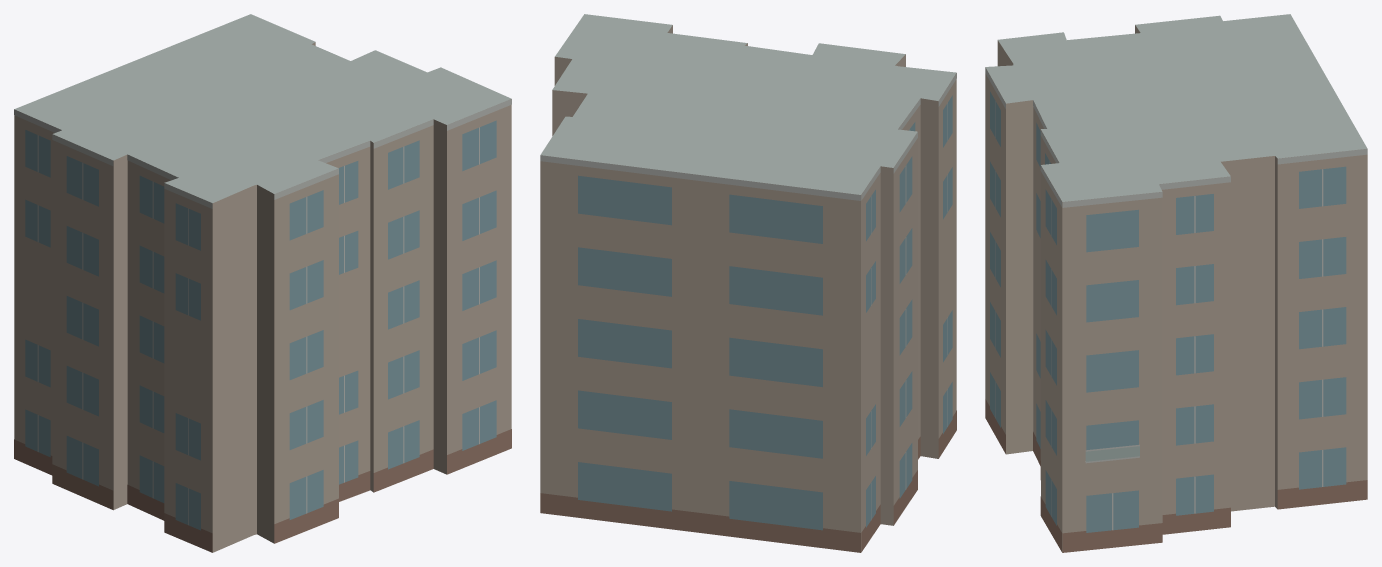
File: survey-upis-32721096.glb
3 renders of one model, left to right at view 1: azimuth 30°, elevation 25°; view 2: azimuth 150°, elevation 25°; view 3: azimuth 270°, elevation 25°, orthographic. The views are drawn at different scales.
Parts seen in each view (by area): view 1: survey-upis-32721096.tmp; view 2: survey-upis-32721096.tmp; view 3: survey-upis-32721096.tmp.
Boxes of the visible parts, x1,y1,x2,y2 form: survey-upis-32721096.tmp: (14,14,511,552); survey-upis-32721096.tmp: (540,14,956,552); survey-upis-32721096.tmp: (985,14,1367,552).
Bounding box in the file's own units: 16.67 × 14.5 × 14.33.
